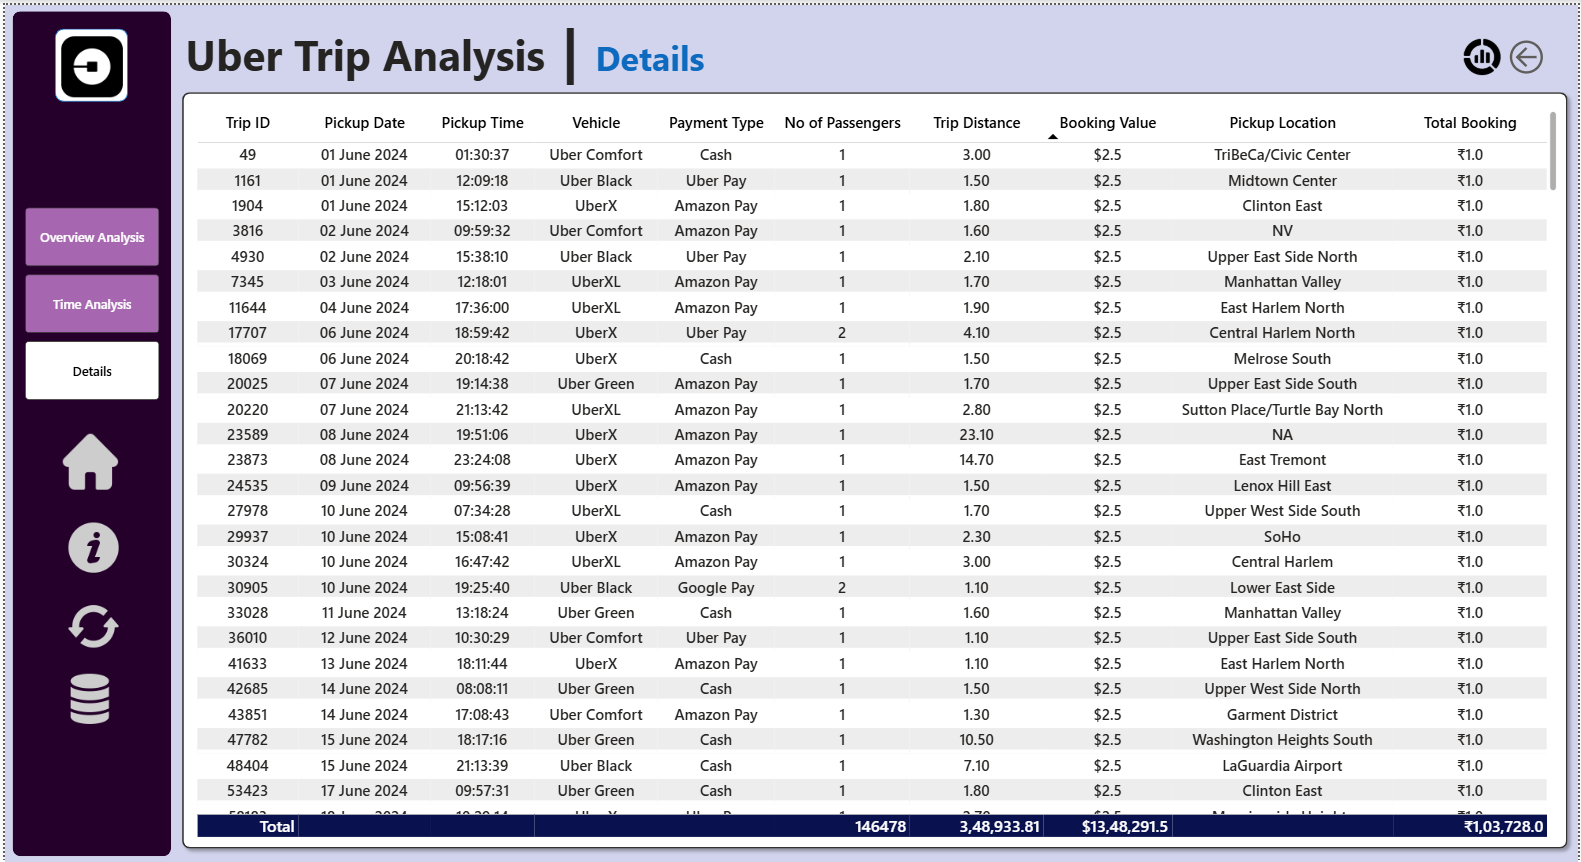

The page's visual inventory and layout, read from the dashboard file:
{"tool":"powerbi","page":{"name":"Details","canvas":[1980,1080],"ordinal":2},"visuals":[{"type":"shape","box":[9,7.2,199.7,1063],"z":0},{"type":"shape","box":[63,30.6,91.7,91.7],"z":0,"group":"g1"},{"type":"textbox","box":[196.1,0,714.1,129.5],"z":1000},{"type":"image","box":[70.2,37.8,77.3,80],"z":1000,"group":"g1"},{"type":"shape","box":[214,100.7,1760.9,969.5],"z":2000},{"type":"tableEx","fields":{"Values":["Trip Details.Trip ID","Trip Details.Pickup Date","Trip Details.Pickup Time","Trip Details.Vehicle","Trip Details.Payment_type","Sum(Trip Details.passenger_count)","Trip Details.Total Trip Distance New","Trip Details.Total Booking Value","Location Table.Location","Trip Details.Total Booking"]},"box":[235.6,129.5,1721.4,922.7],"z":3000},{"type":"actionButton","box":[1887.5,34.6,53.8,61.4],"z":4000},{"type":"image","box":[1835.6,34.6,46.1,61.4],"z":5000},{"type":"group","id":"g1","title":"Group 1","box":[63,30.6,91.7,91.7],"z":6000},{"type":"pageNavigator","box":[25.2,255.4,169.1,244.6],"z":7000},{"type":"image","box":[54,539.6,107.9,70.1],"z":8000},{"type":"image","box":[57.6,651.1,106.1,63],"z":9000},{"type":"image","box":[57.6,750.1,106.1,63],"z":10000},{"type":"image","box":[54,841.8,106.1,63],"z":11000}]}

Visuals, with their boxes in screenshot pixels (x1, y1, x2, y2):
shape: [left=7, top=0, right=164, bottom=829]
shape: [left=50, top=12, right=122, bottom=84]
textbox: [left=154, top=0, right=715, bottom=89]
image: [left=55, top=17, right=116, bottom=80]
shape: [left=168, top=67, right=1552, bottom=829]
tableEx - Trip Details.Trip ID x Trip Details.Pickup Date: [left=185, top=89, right=1538, bottom=814]
actionButton: [left=1483, top=15, right=1525, bottom=63]
image: [left=1442, top=15, right=1479, bottom=63]
"Group 1" group: [left=50, top=12, right=122, bottom=84]
pageNavigator: [left=20, top=188, right=153, bottom=381]
image: [left=42, top=412, right=127, bottom=467]
image: [left=45, top=499, right=129, bottom=549]
image: [left=45, top=577, right=129, bottom=627]
image: [left=42, top=649, right=126, bottom=699]
